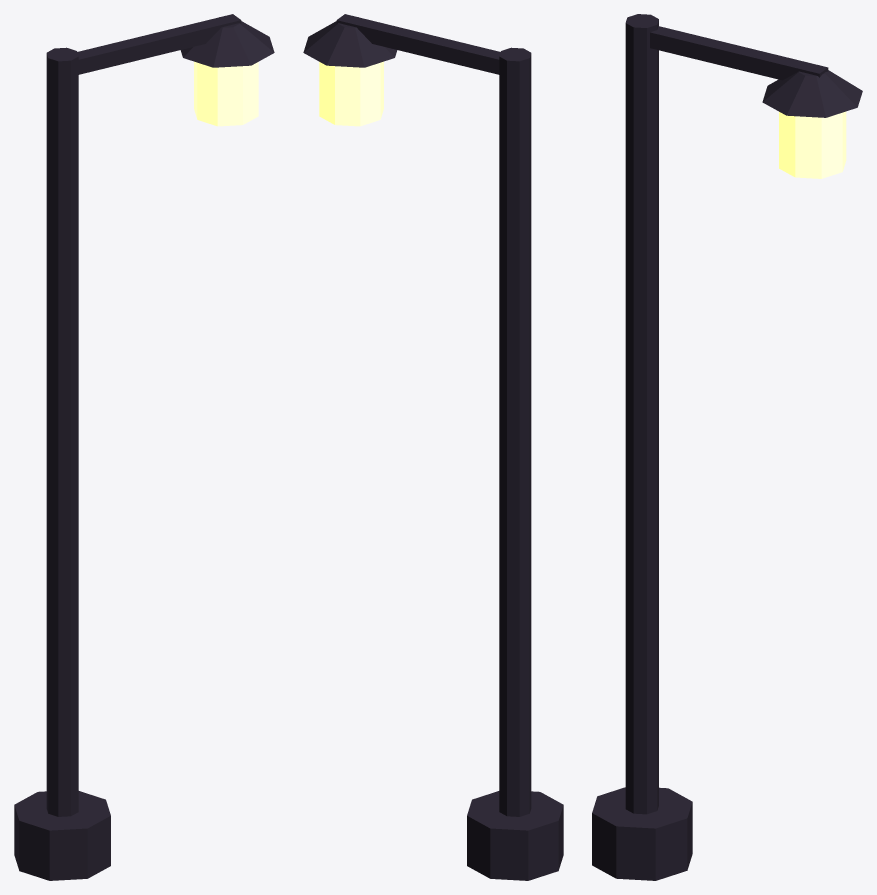
Rendered from lamp_post.glb.
The picture shows the model from 3 angles, left to right: view 1: azimuth 30°, elevation 25°; view 2: azimuth 150°, elevation 25°; view 3: azimuth 330°, elevation 25°; orthographic projection. The views are drawn at different scales.
Visible parts, largest first — view 1: lamp_post; view 2: lamp_post; view 3: lamp_post.
Part boxes in pixels (box(x1,y1,x2,y2)): lamp_post: box(14, 14, 274, 880); lamp_post: box(303, 14, 563, 880); lamp_post: box(592, 14, 862, 880).
Size of the model in its own units: 1.04 by 3.2 by 0.36.
